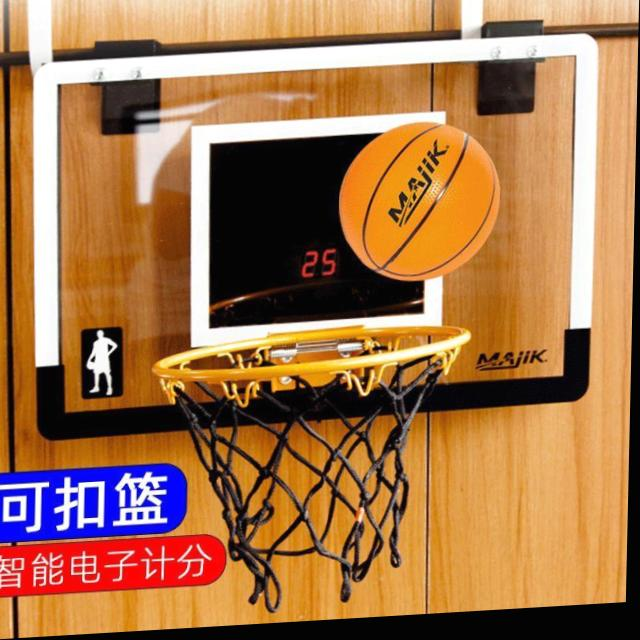basketball: (339, 116, 504, 287)
hoop: (152, 321, 472, 609)
